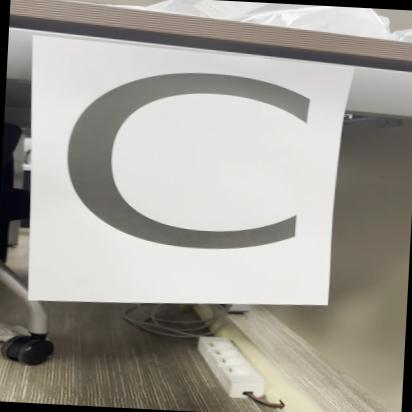seat: (33, 40, 347, 304)
